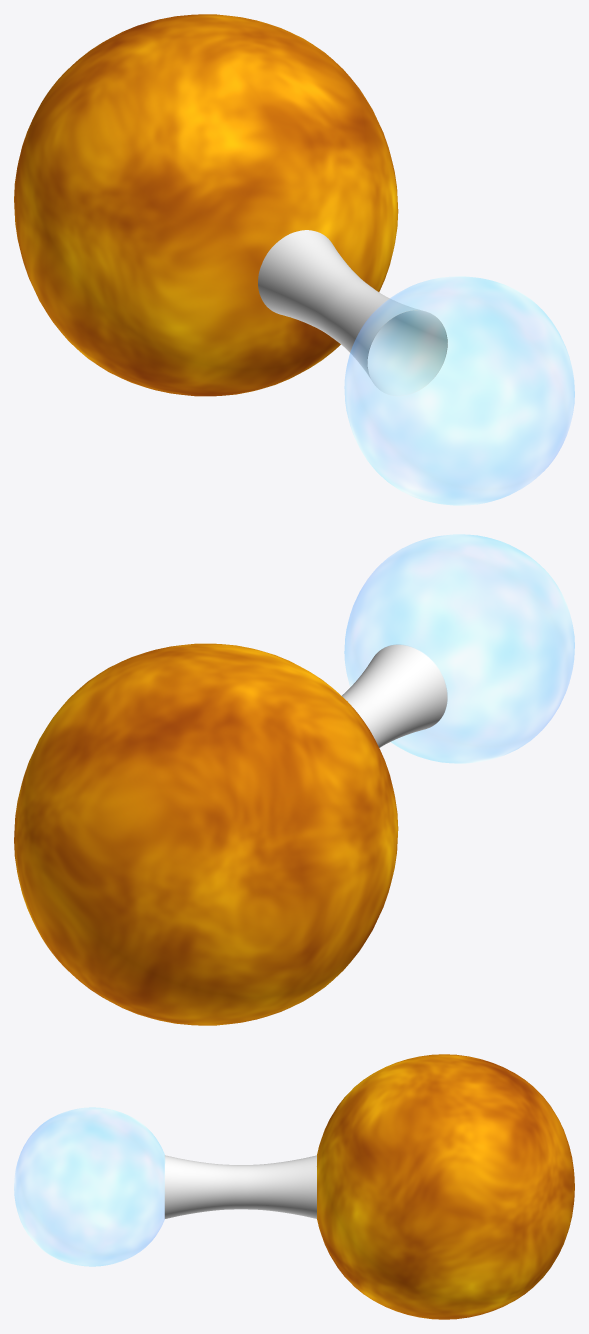
The model's file is HBr.glb.
The picture shows the model from 3 angles, top to bottom: view 1: azimuth 30°, elevation 25°; view 2: azimuth 150°, elevation 25°; view 3: azimuth 270°, elevation 25°; orthographic projection. The views are drawn at different scales.
Parts seen in each view (by area): view 1: jednosytne_kyseliny; view 2: jednosytne_kyseliny; view 3: jednosytne_kyseliny.
Part boxes in pixels (x1,y1,x2,y2): jednosytne_kyseliny: [14, 14, 574, 505]; jednosytne_kyseliny: [14, 534, 574, 1025]; jednosytne_kyseliny: [14, 1054, 574, 1319].
Size of the model in its own units: 2.02 by 2.02 by 4.33.
3 materials, 2 textured.
